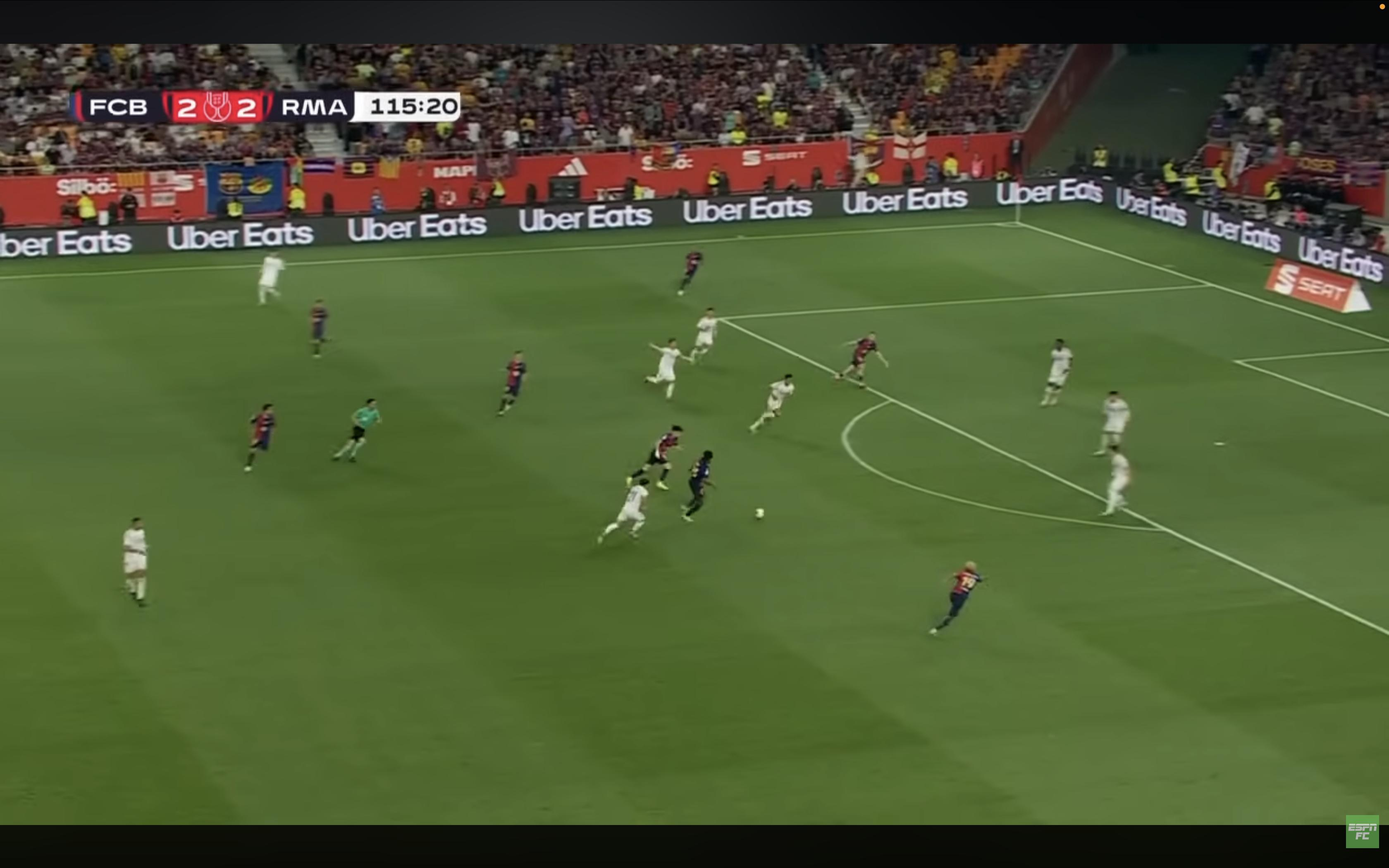ball: (754, 508, 765, 520)
player: (930, 562, 983, 635), (626, 425, 683, 490), (598, 477, 649, 544), (834, 332, 889, 388), (645, 338, 692, 398), (750, 374, 795, 433), (1093, 391, 1131, 456), (244, 403, 276, 472), (1041, 339, 1073, 407), (1102, 444, 1132, 516), (683, 450, 713, 522), (123, 517, 147, 604), (497, 350, 527, 416), (690, 308, 718, 363), (258, 252, 285, 305), (310, 300, 329, 358), (678, 252, 702, 295)
referee: (332, 399, 381, 462)
